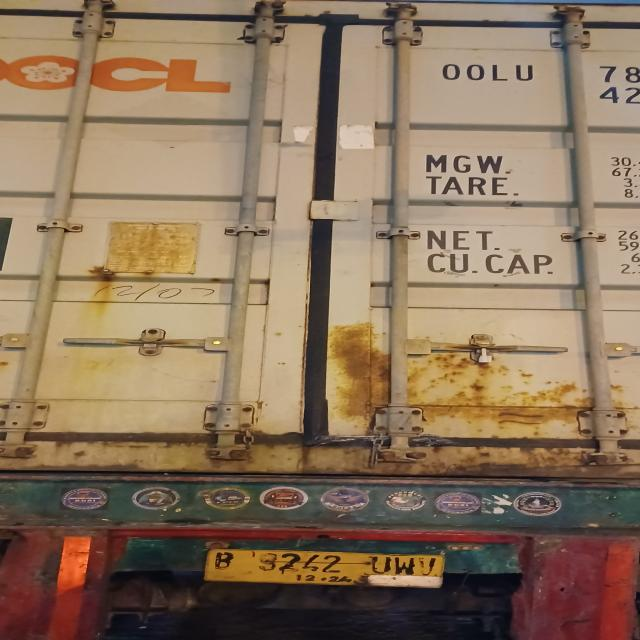seal: (475, 340, 494, 364)
